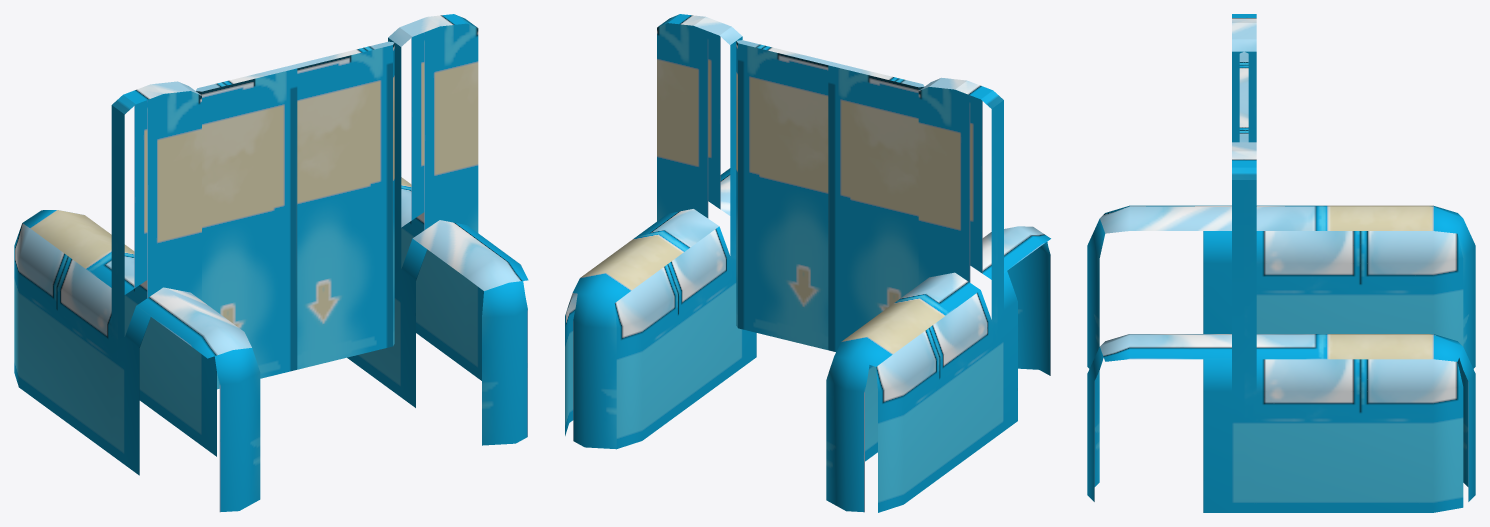
The model's file is portique.fbx.
3 views of the same model, side by side, from view 1: azimuth 30°, elevation 25°; view 2: azimuth 150°, elevation 25°; view 3: azimuth 270°, elevation 25° (orthographic). The views are drawn at different scales.
Visible parts, largest first — view 1: pCube17; view 2: pCube17; view 3: pCube17.
Boxes of the visible parts, x1,y1,x2,y2 form: pCube17: (14,14,528,512); pCube17: (565,14,1050,512); pCube17: (1087,14,1475,512).
Bounding box in the file's own units: 100 × 97.68 × 100.
